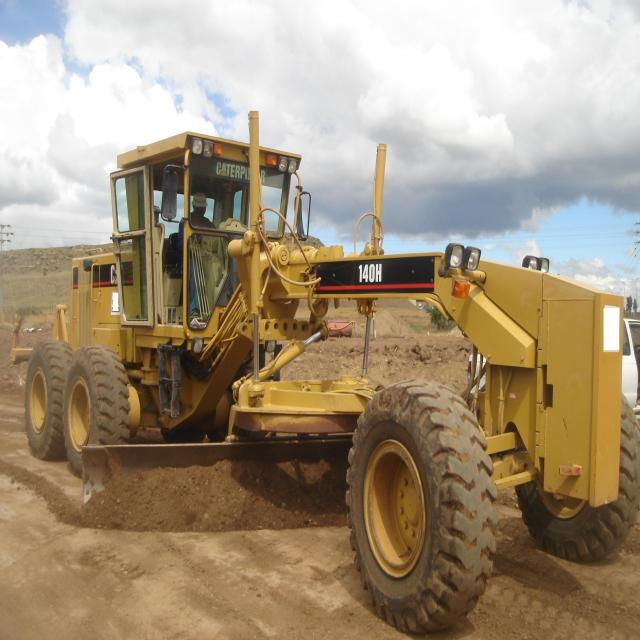Grader: (22, 116, 640, 640)
